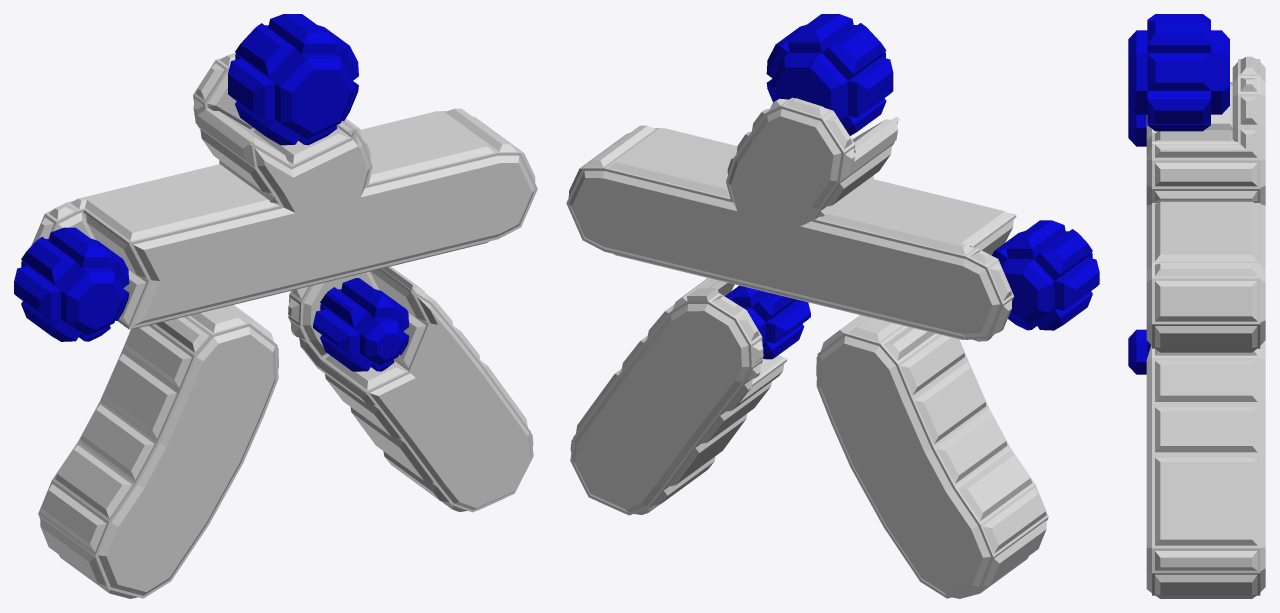
Rendered from Ch_China_六_01.fbx.
3 views of the same model, side by side, from view 1: azimuth 30°, elevation 25°; view 2: azimuth 150°, elevation 25°; view 3: azimuth 270°, elevation 25° (orthographic). The views are drawn at different scales.
Visible parts, largest first — view 1: sphere1; view 2: sphere1; view 3: sphere1.
Part boxes in pixels (x1,y1,x2,y2): sphere1: [14, 14, 537, 598]; sphere1: [566, 14, 1099, 598]; sphere1: [1128, 14, 1265, 598].
Bounding box in the file's own units: 1 × 1.01 × 0.2541.
